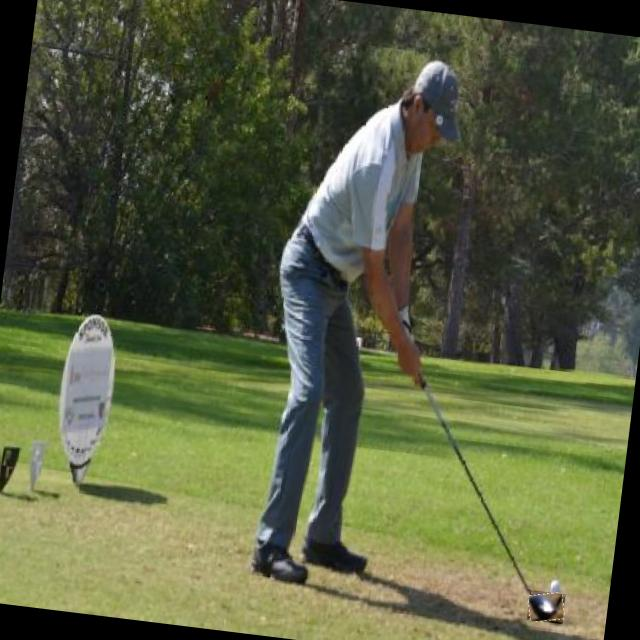club head: (526, 590, 565, 624)
